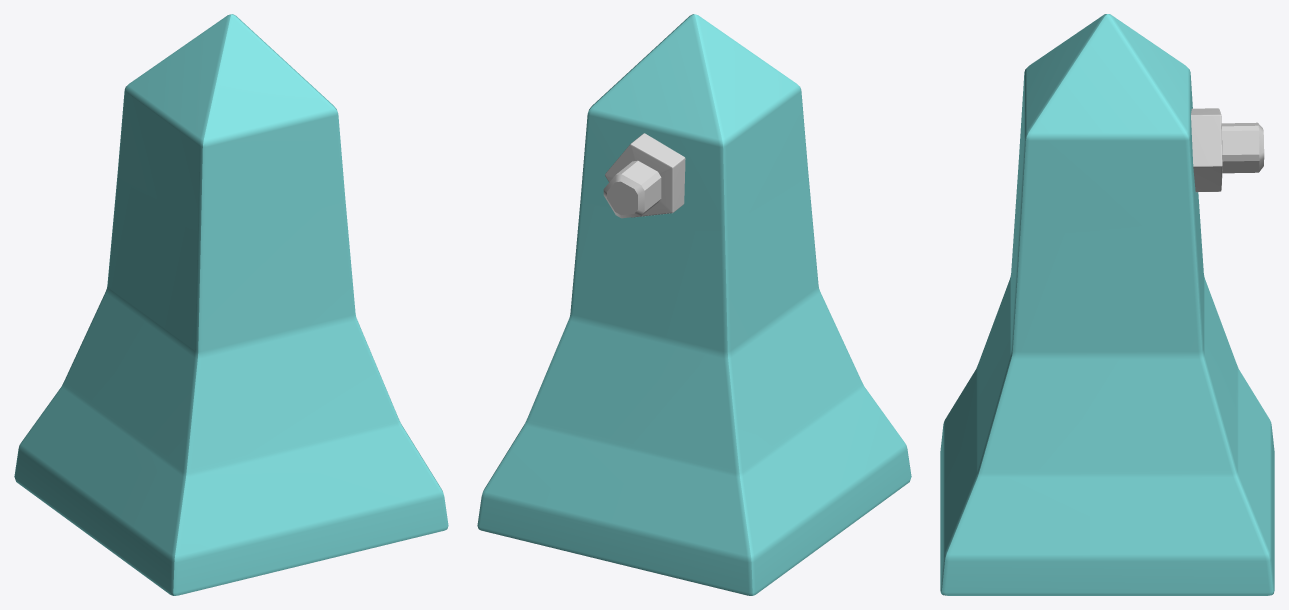
File: wind.fbx
3 renders of one model, left to right at view 1: azimuth 30°, elevation 25°; view 2: azimuth 150°, elevation 25°; view 3: azimuth 270°, elevation 25°, orthographic. The views are drawn at different scales.
Visible parts, largest first — view 1: pCylinder1; view 2: pCylinder1, pCylinder2, pCylinder3; view 3: pCylinder1, pCylinder2, pCylinder3.
Boxes of the visible parts, box(x1,y1,x2,y2) form: pCylinder1: box(14, 14, 448, 595); pCylinder1: box(477, 14, 911, 595); pCylinder2: box(605, 133, 685, 217); pCylinder3: box(603, 160, 661, 218); pCylinder1: box(940, 14, 1274, 595); pCylinder2: box(1191, 108, 1222, 192); pCylinder3: box(1221, 122, 1264, 173).
Size of the model in its own units: 4.92 by 8.33 by 4.92.
